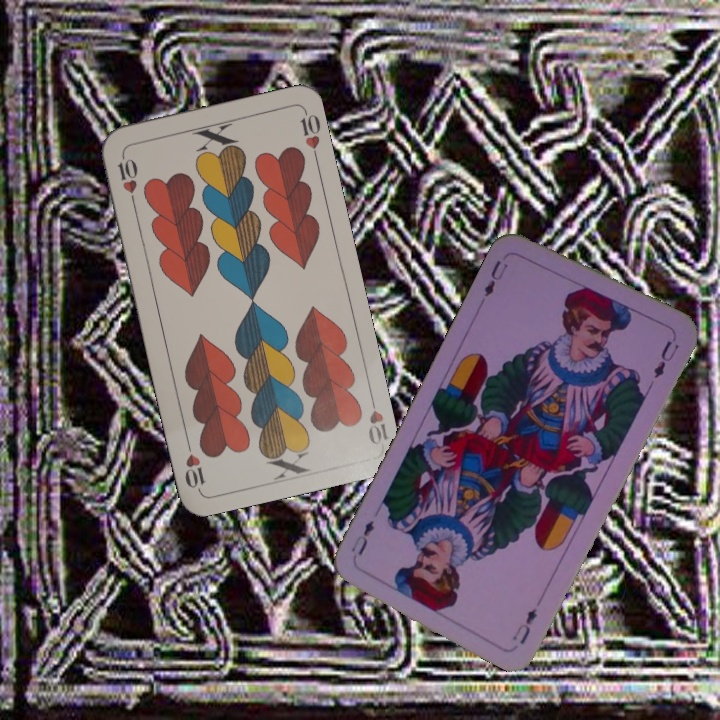EU: (477, 256, 511, 305), (508, 604, 540, 647)
H10: (364, 391, 391, 448), (114, 150, 140, 209)
